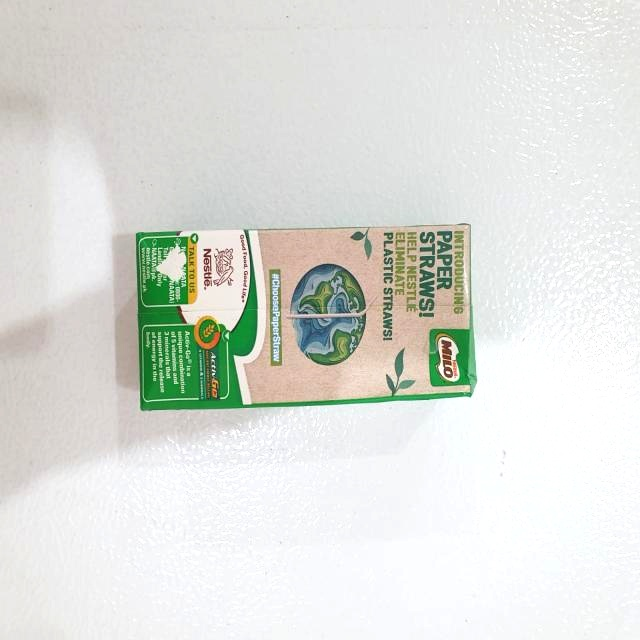milo-180ml: (139, 228, 469, 404)
